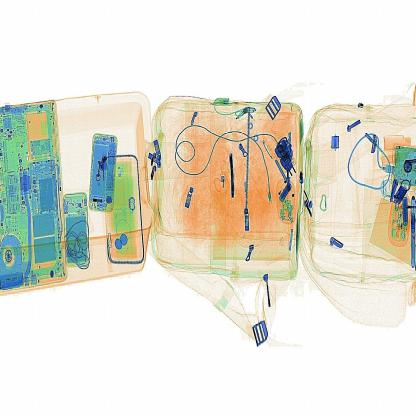knife: (219, 145, 247, 200)
